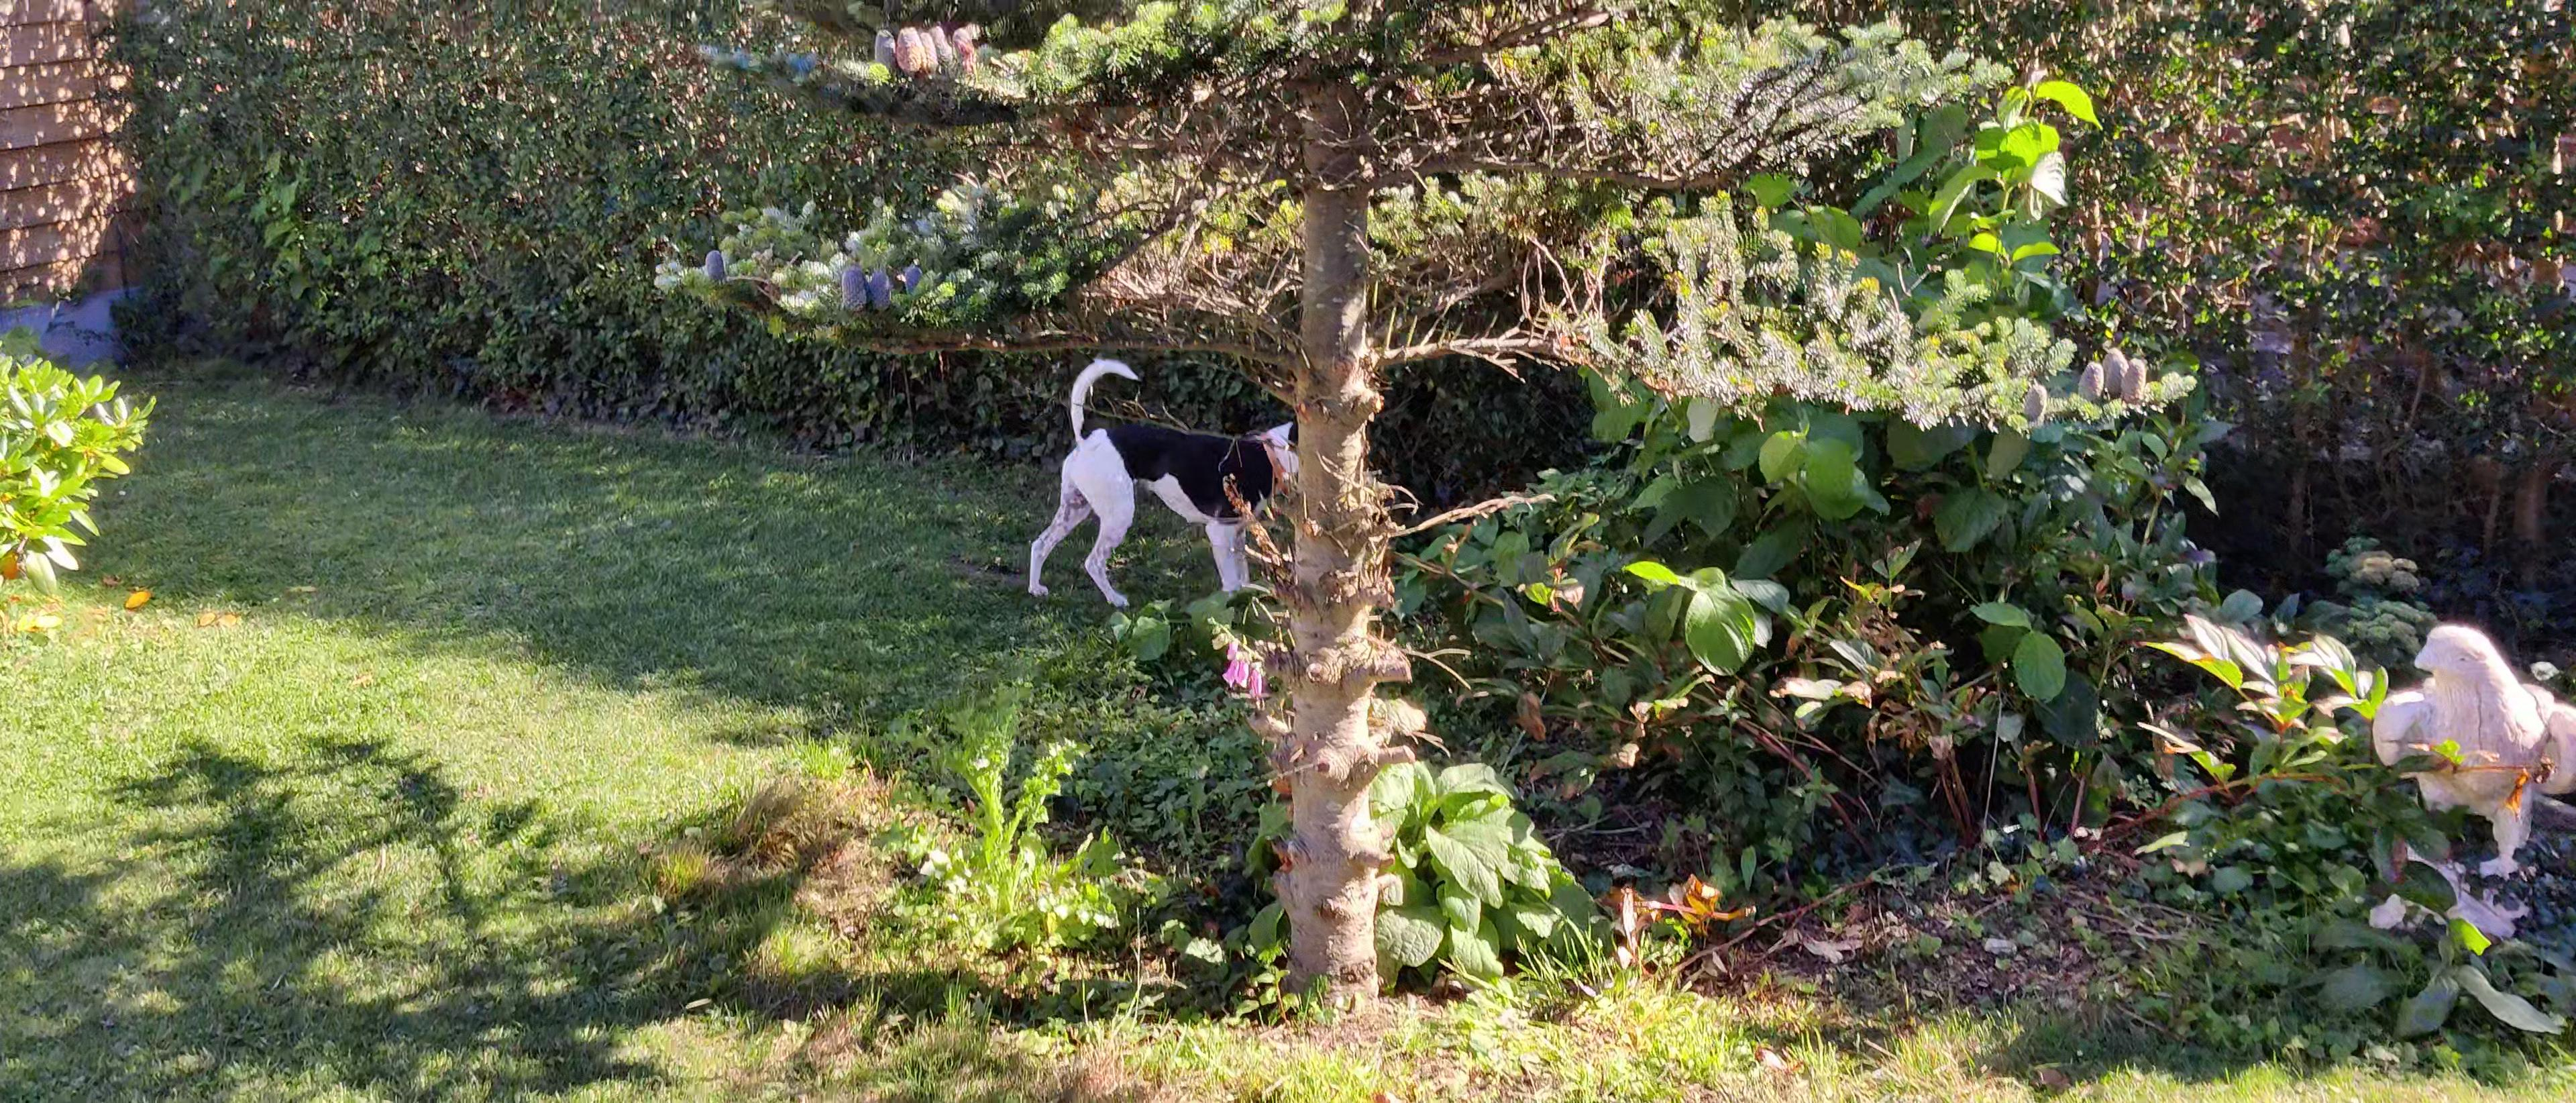Dog: (1025, 358, 1301, 607)
